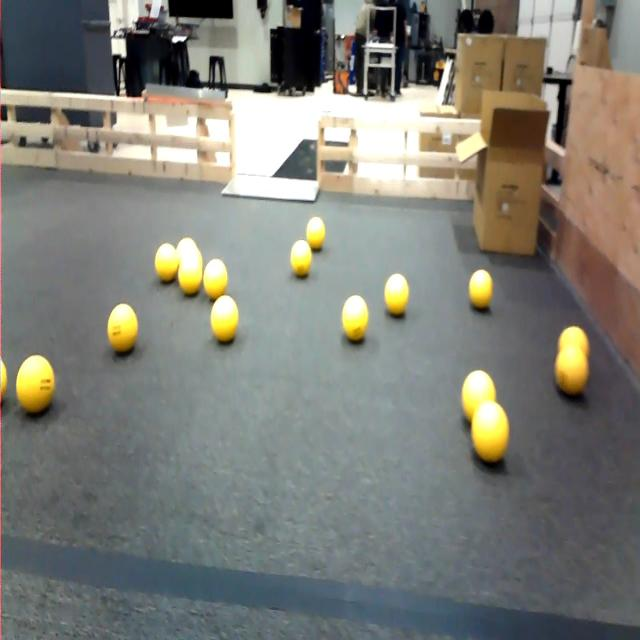fuel: (471, 401, 509, 463), (16, 355, 54, 414), (461, 370, 496, 422), (555, 346, 589, 396), (107, 304, 138, 353), (211, 296, 238, 343), (342, 295, 368, 342), (178, 252, 202, 295), (385, 274, 409, 316), (203, 259, 227, 300), (558, 327, 589, 358), (155, 243, 179, 282), (469, 270, 492, 310), (291, 240, 311, 277), (307, 216, 325, 250), (176, 238, 197, 261), (0, 360, 7, 401)
